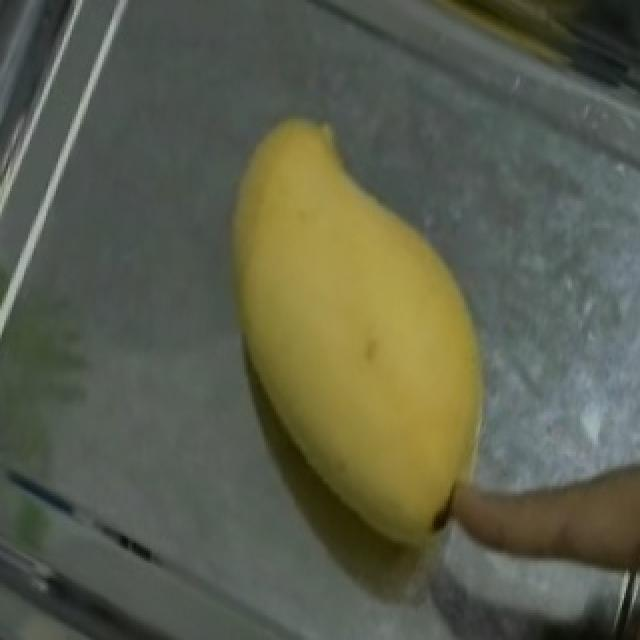fruit: (168, 79, 542, 489)
